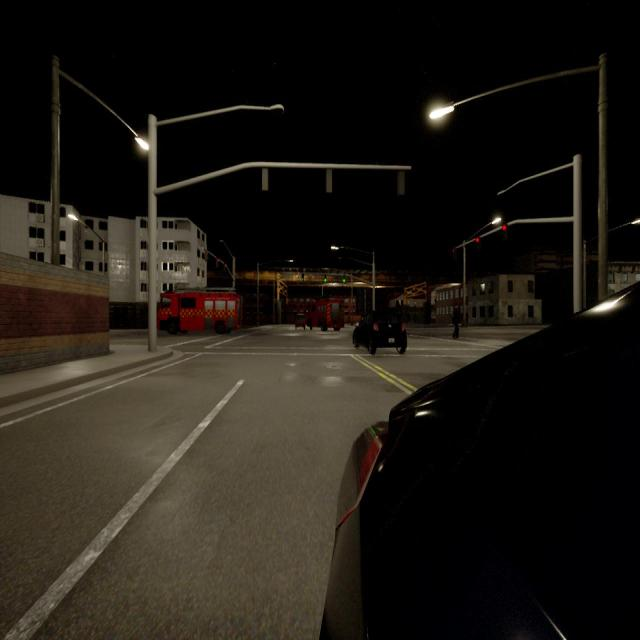Pedestrian: (452, 303, 460, 339)
Vehicle: (324, 290, 640, 637), (159, 295, 239, 334), (352, 312, 407, 353), (310, 300, 343, 331), (296, 314, 306, 330)
traffic_light: (398, 171, 405, 195), (262, 167, 268, 191), (326, 169, 332, 192), (502, 224, 507, 230), (324, 274, 327, 282), (342, 276, 346, 282), (476, 237, 480, 243), (302, 273, 304, 281), (452, 248, 455, 253), (205, 250, 208, 254), (217, 258, 220, 262), (224, 264, 227, 267)
